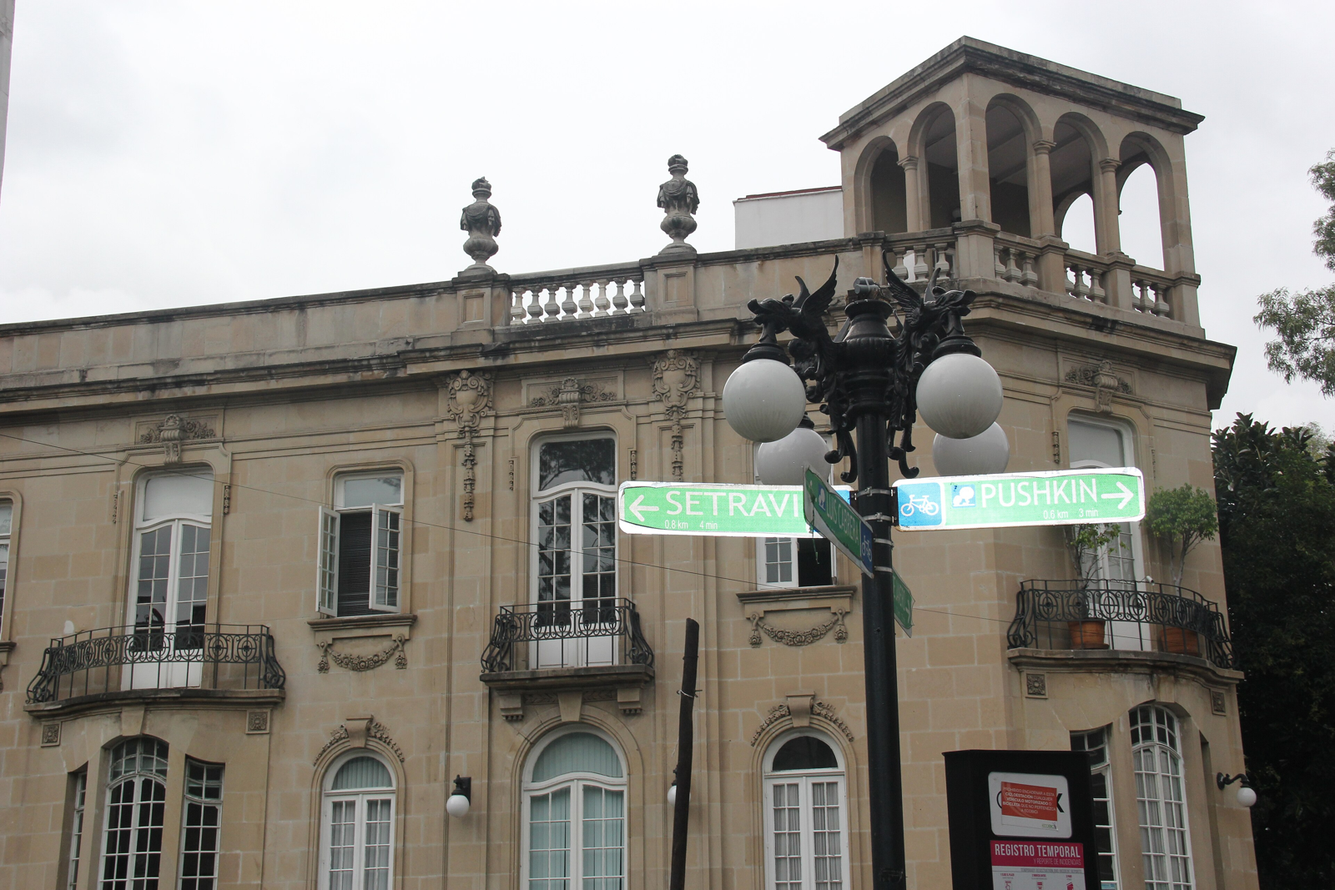fachada: (4, 0, 1260, 890)
poste: (722, 252, 993, 890)
